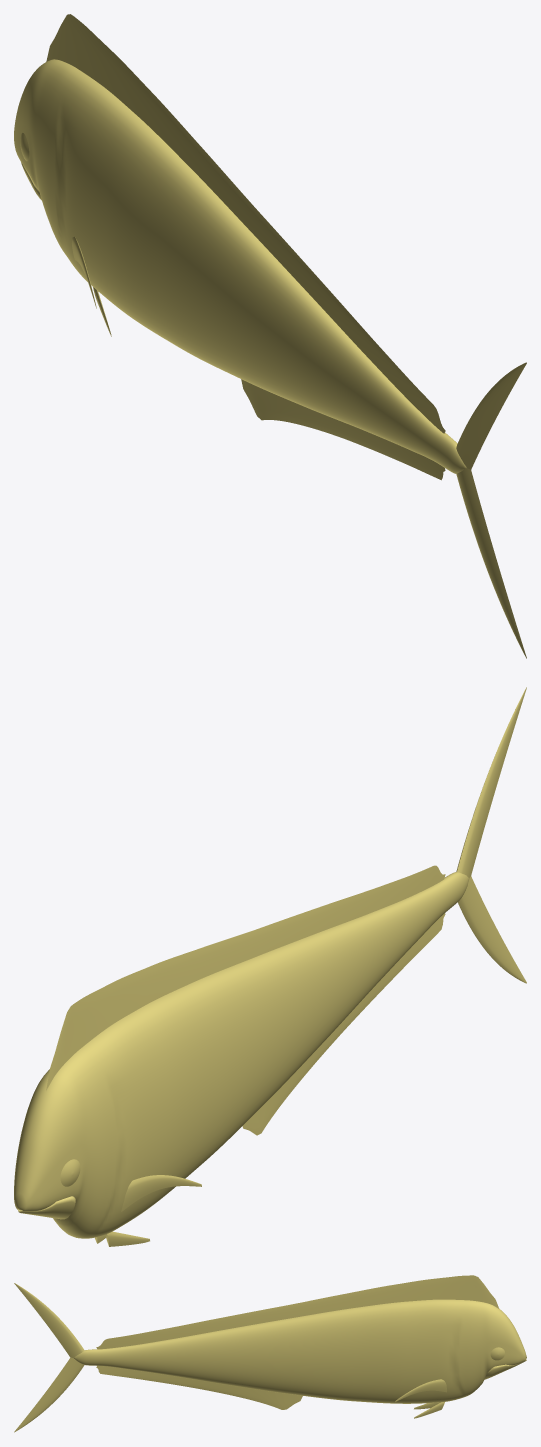
The model's file is mahi_mahi.glb.
3 views of the same model, one above another, from view 1: azimuth 30°, elevation 25°; view 2: azimuth 150°, elevation 25°; view 3: azimuth 270°, elevation 25° (orthographic). The views are drawn at different scales.
Visible parts, largest first — view 1: mahi_mahi; view 2: mahi_mahi; view 3: mahi_mahi.
Part boxes in pixels (box(x1,y1,x2,y2)): mahi_mahi: box(14, 14, 526, 658); mahi_mahi: box(14, 687, 526, 1246); mahi_mahi: box(14, 1275, 526, 1432).
Size of the model in its own units: 0.1433 by 0.4047 by 1.2.
